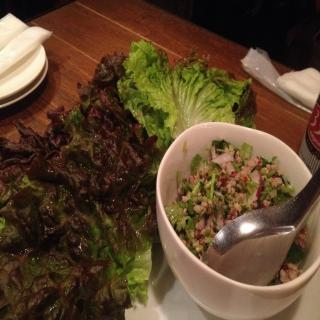Salad: (164, 136, 318, 294)
